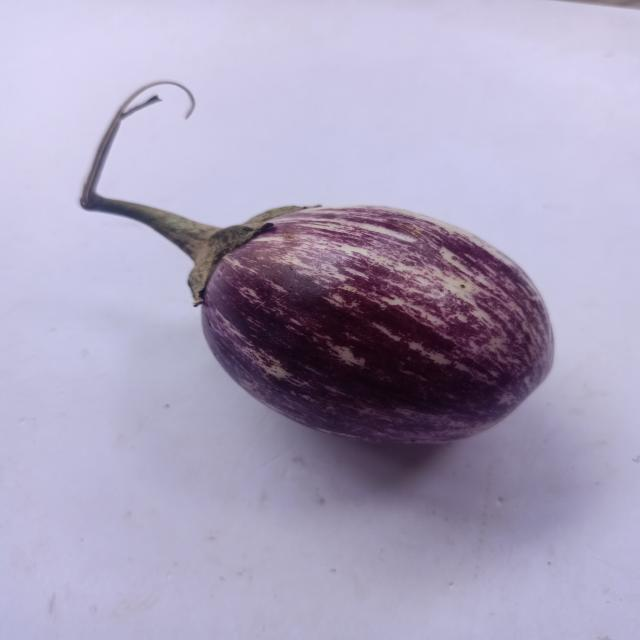Eggplant: (50, 55, 576, 464)
